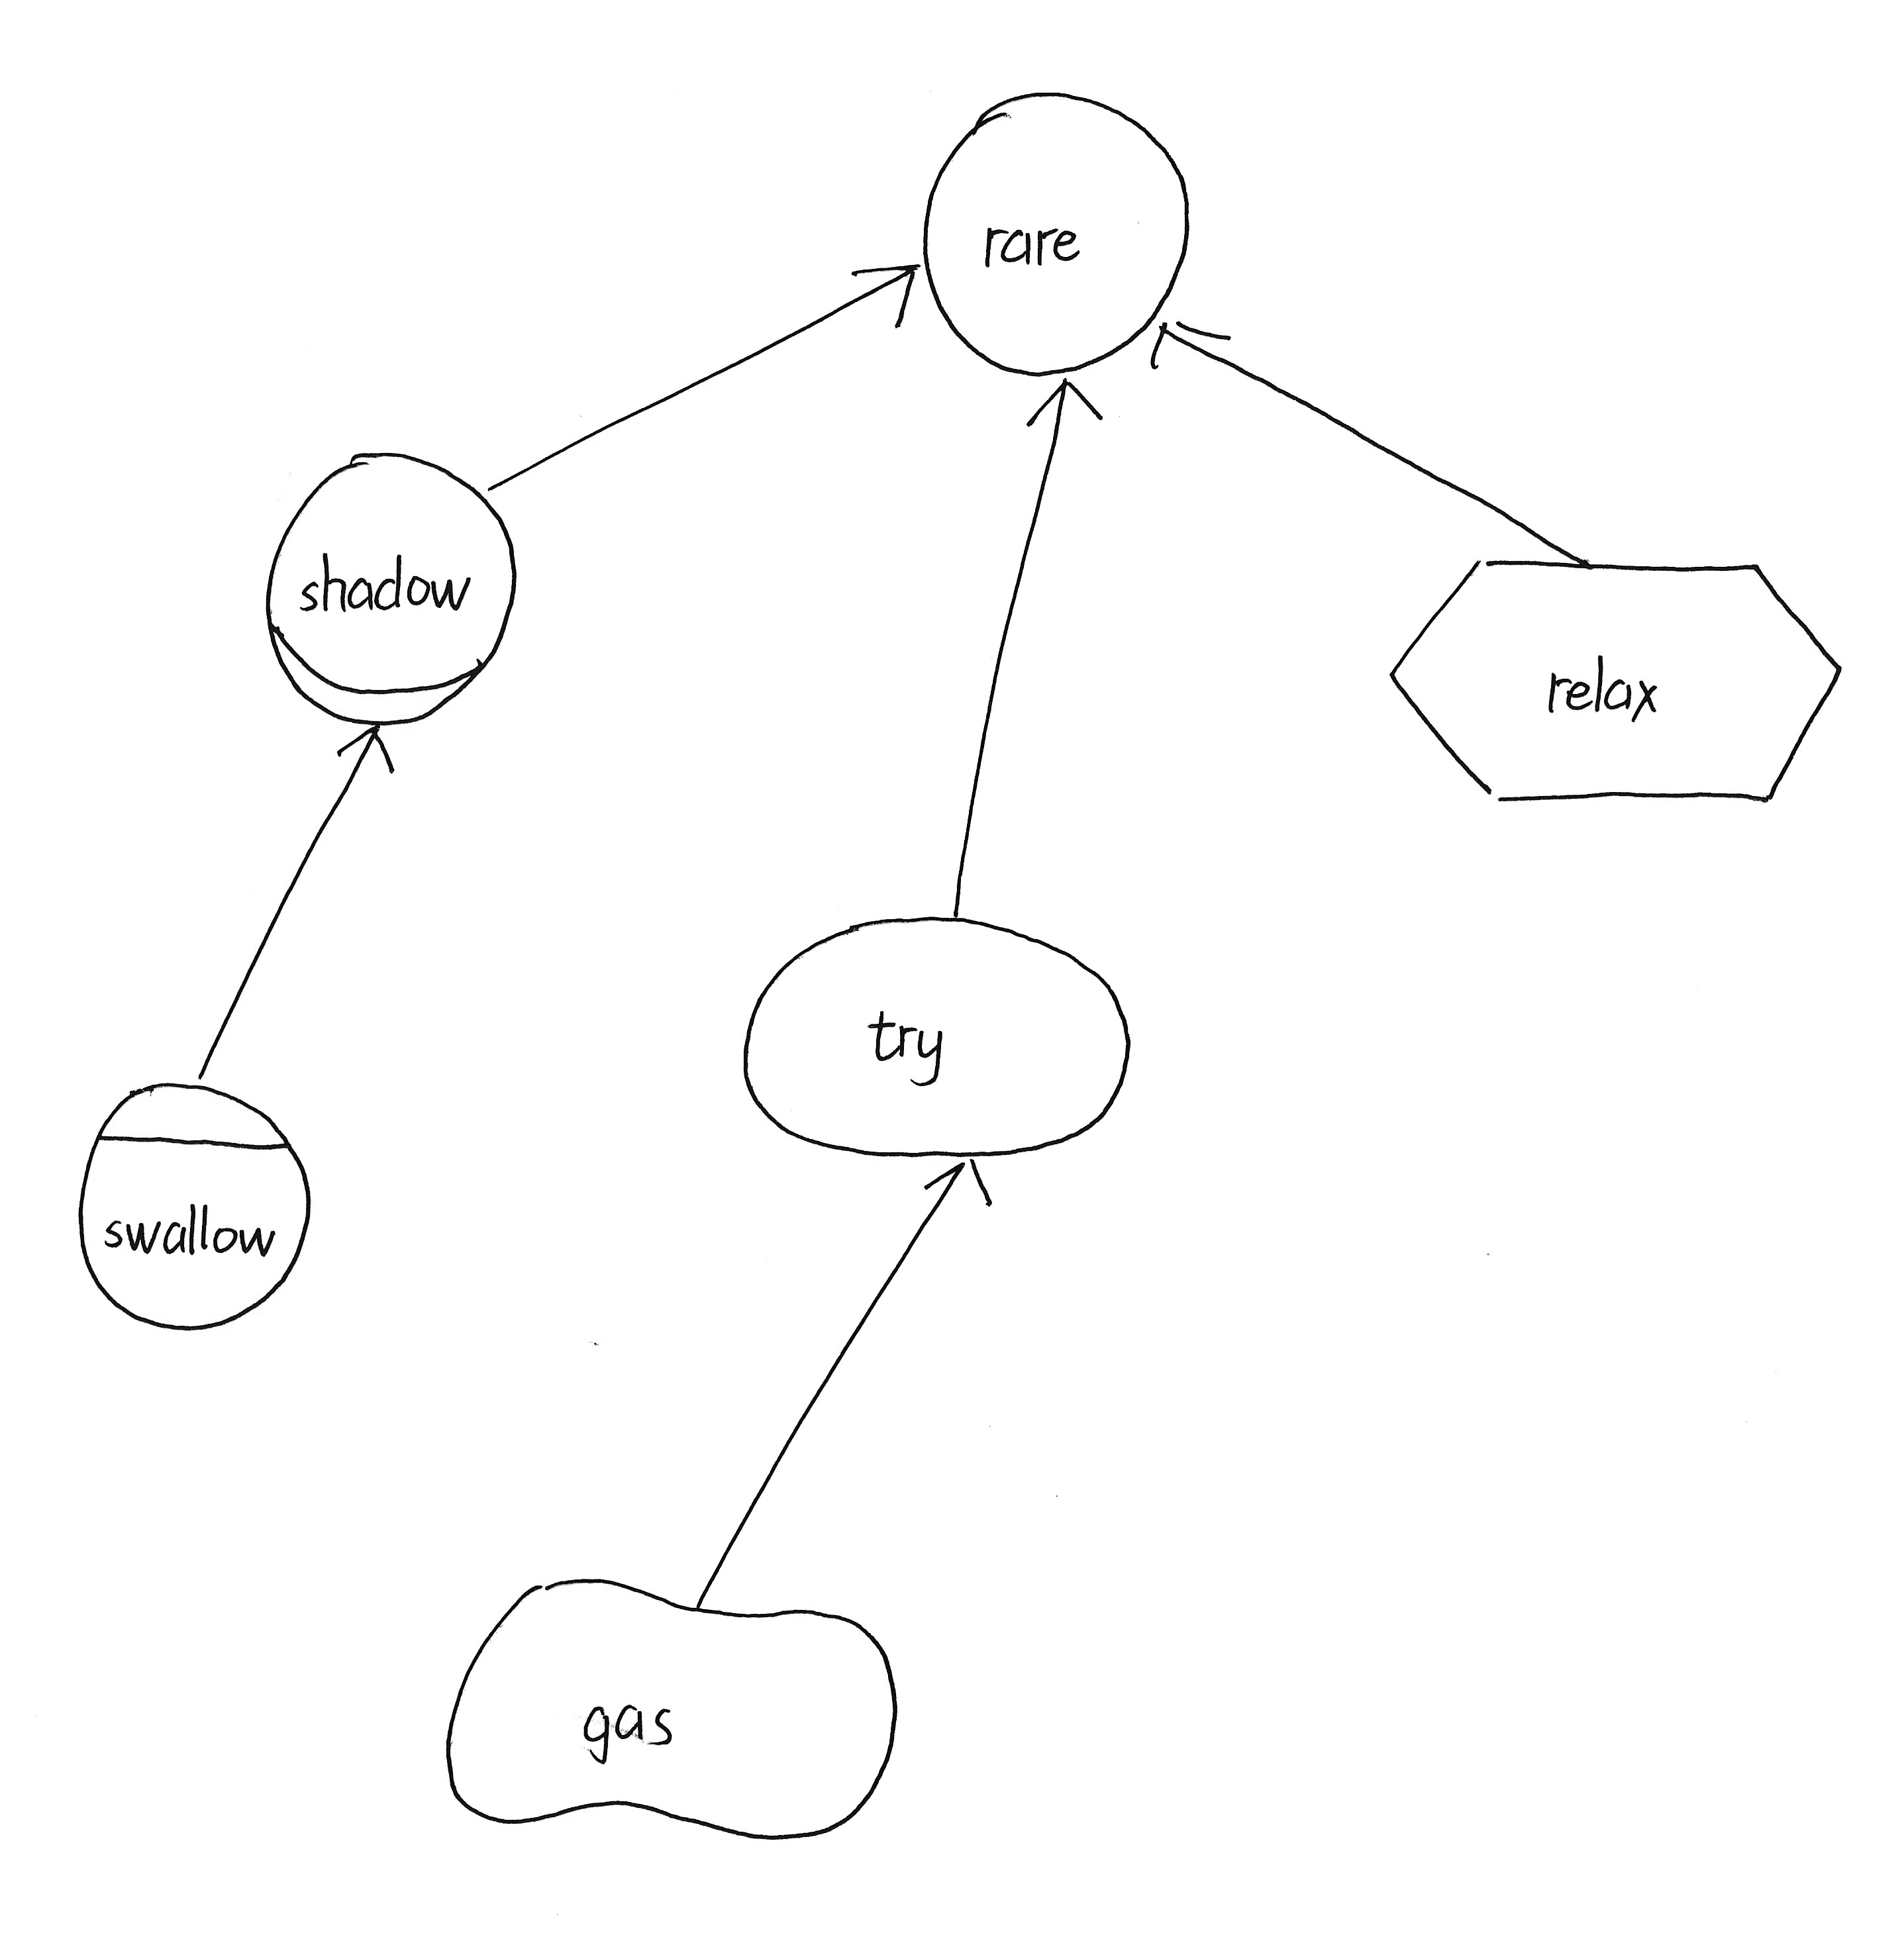actor: (907, 75, 1210, 394)
agent: (63, 1058, 321, 1353)
arrow: (837, 241, 926, 350), (1137, 305, 1243, 385), (1008, 371, 1123, 439), (908, 1151, 1006, 1222), (324, 715, 403, 785)
goal: (724, 898, 1151, 1179)
quality: (427, 1557, 914, 1854)
role: (249, 438, 534, 738)
task: (1374, 539, 1857, 821)
